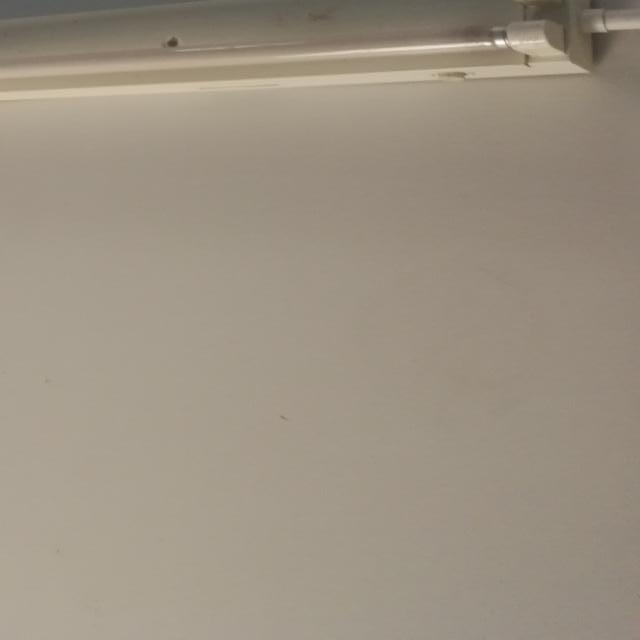fluorescent tube: (1, 0, 621, 145)
